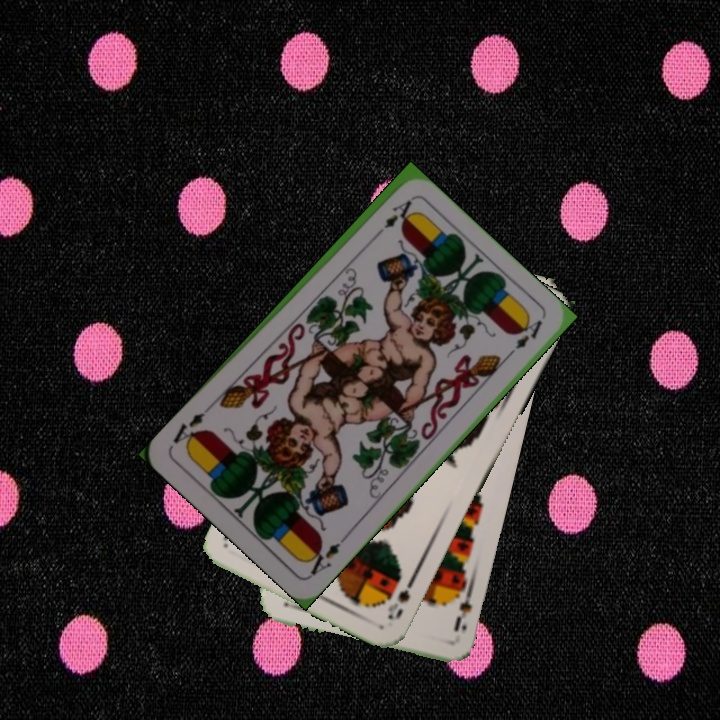EA: (368, 195, 415, 243), (302, 532, 350, 578)
S9: (449, 581, 475, 635)
SO: (383, 570, 419, 622)
